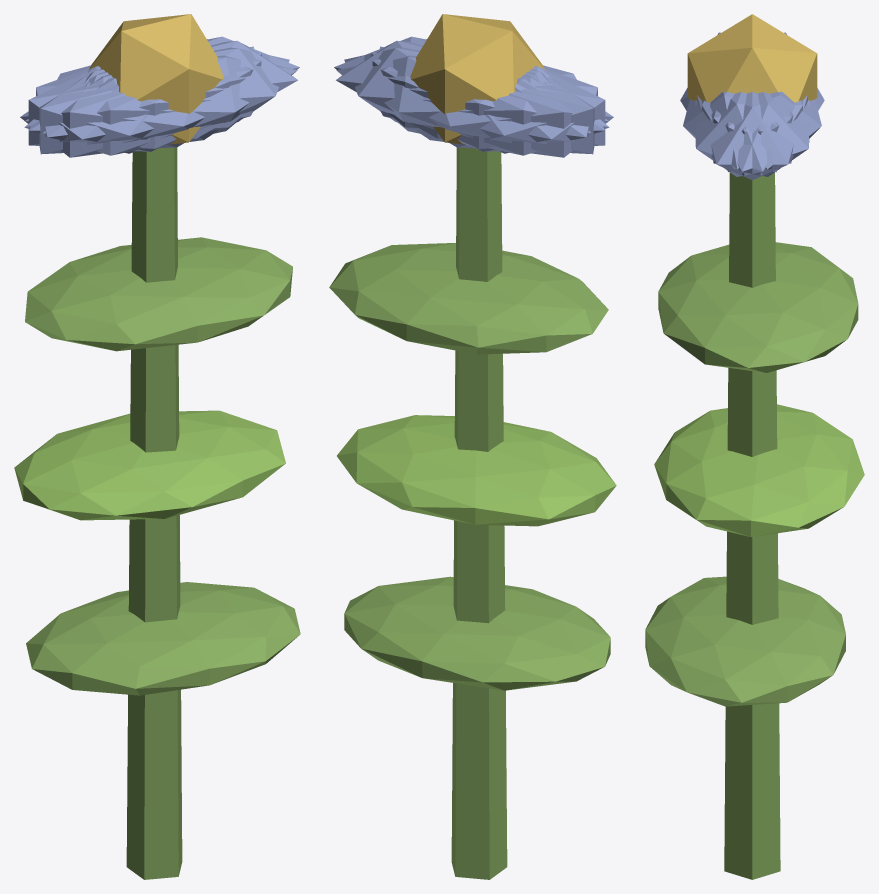
Rendered from chlorophytum-comosum.glb.
3 renders of one model, left to right at view 1: azimuth 30°, elevation 25°; view 2: azimuth 150°, elevation 25°; view 3: azimuth 270°, elevation 25°, orthographic.
Parts seen in each view (by area): view 1: stem, leaf0, leaf2, leaf1, center, petal1, petal6, petal2, petal5, petal7, petal0, petal4 (+2 smaller); view 2: stem, leaf1, leaf2, leaf0, center, petal8, petal3, petal7, petal4, petal2, petal0, petal5 (+2 smaller); view 3: stem, leaf2, leaf1, leaf0, center, petal0, petal5, petal4, petal1, petal8.
Boxes of the visible parts, x1,y1,x2,y2 form: stem: (126,147,182,879); leaf0: (26,582,300,695); leaf2: (25,237,292,351); leaf1: (14,410,285,520); center: (89,14,223,144); petal1: (24,55,297,155); petal6: (20,67,217,157); petal2: (39,46,254,154); petal5: (43,47,289,148); petal7: (28,52,261,151); petal0: (89,40,297,139); petal4: (25,36,299,130); stem: (451,147,507,879); leaf1: (337,415,616,526); leaf2: (329,243,608,354); leaf0: (344,576,610,690); center: (410,14,544,144); petal8: (336,55,609,155); petal3: (416,67,613,157); petal7: (379,46,594,154); petal4: (344,47,590,148); petal2: (371,52,605,151); petal0: (336,40,544,139); petal5: (334,36,608,130); stem: (724,172,780,879); leaf2: (658,242,858,372); leaf1: (654,404,864,536); leaf0: (645,576,845,706); center: (687,14,817,102); petal0: (697,92,807,180); petal5: (695,92,802,176); petal4: (702,92,809,176); petal1: (683,91,793,169); petal8: (711,91,821,169).
Bounding box in the file's own units: 0.1452 × 0.4367 × 0.1039.
